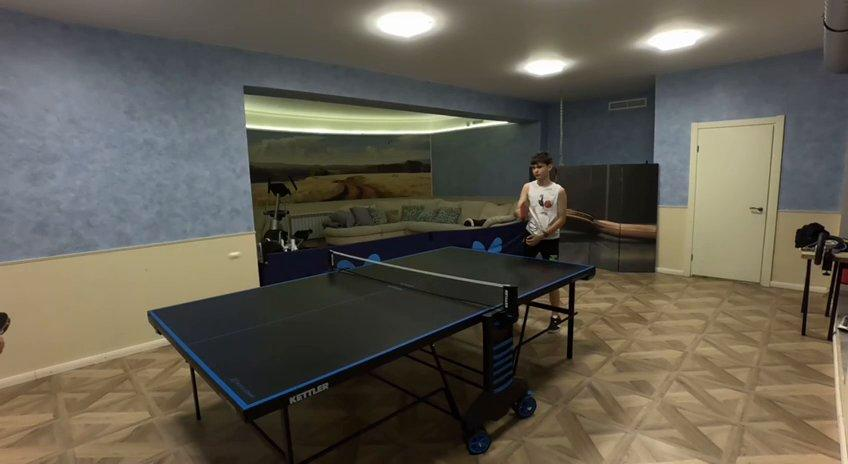Ball: (227, 251, 242, 260)
Net: (327, 251, 515, 308)
Player1: (516, 152, 566, 258)
Table: (149, 247, 594, 409)
